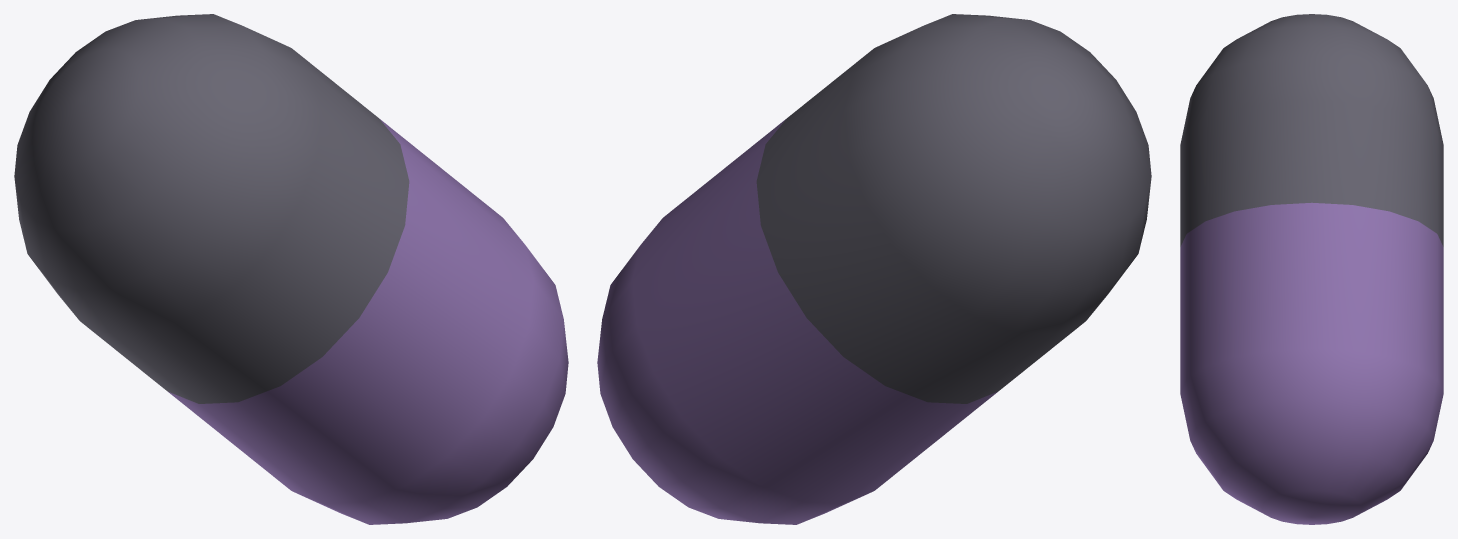
The model's file is pill.dae.
3 renders of one model, left to right at view 1: azimuth 30°, elevation 25°; view 2: azimuth 150°, elevation 25°; view 3: azimuth 270°, elevation 25°, orthographic. The views are drawn at different scales.
Visible parts, largest first — view 1: Pill; view 2: Pill; view 3: Pill.
Part boxes in pixels (left/top/right/bottom): Pill: left=14, top=14, right=568, bottom=524; Pill: left=597, top=14, right=1151, bottom=524; Pill: left=1180, top=14, right=1443, bottom=524.
Bounding box in the file's own units: 0.4527 × 0.4527 × 0.2652.
1 material, 1 textured.
